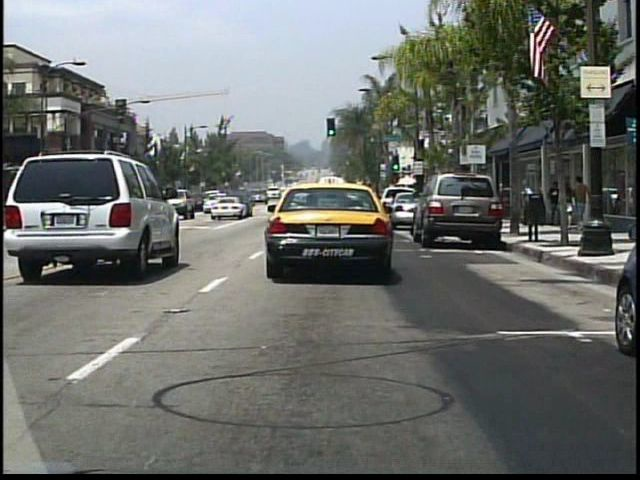person: (559, 176, 577, 231), (546, 176, 563, 226), (573, 172, 587, 230)
